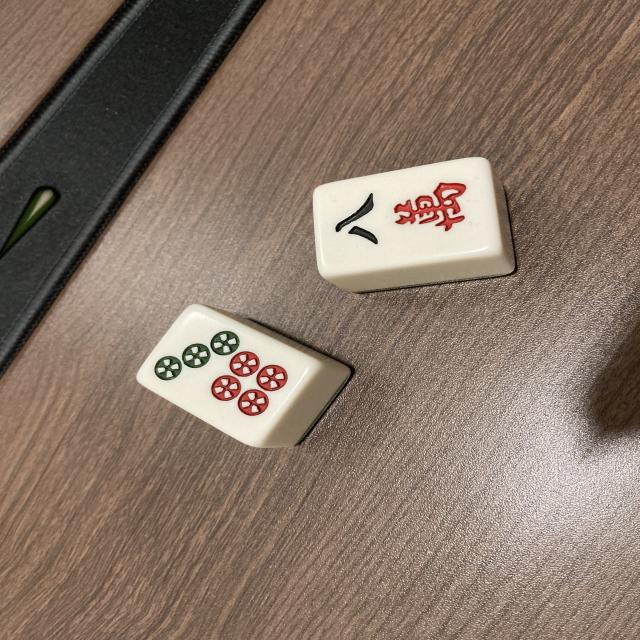m8: (318, 164, 496, 275)
t7: (139, 300, 318, 449)
